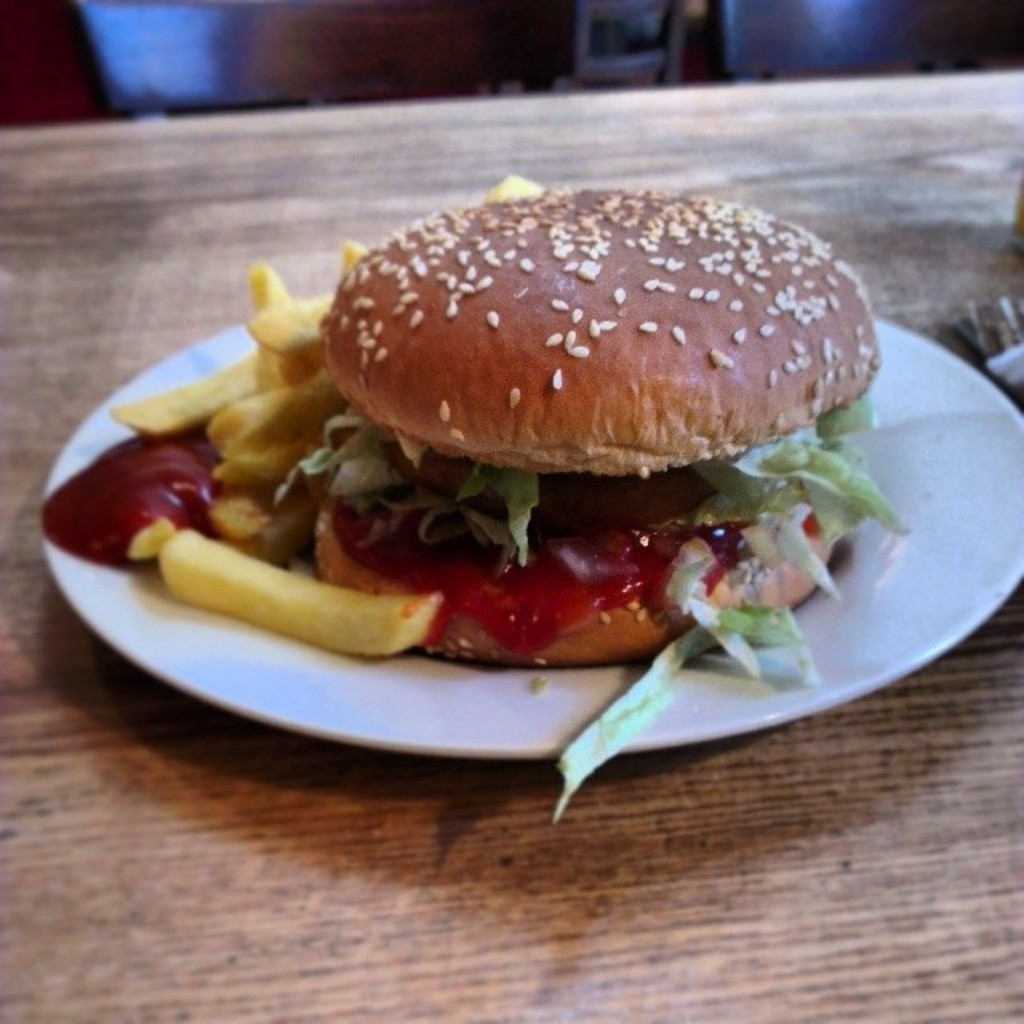French fries: (244, 161, 560, 358), (137, 524, 412, 665), (208, 265, 310, 416), (116, 344, 268, 423), (217, 356, 347, 436), (204, 433, 316, 484)
